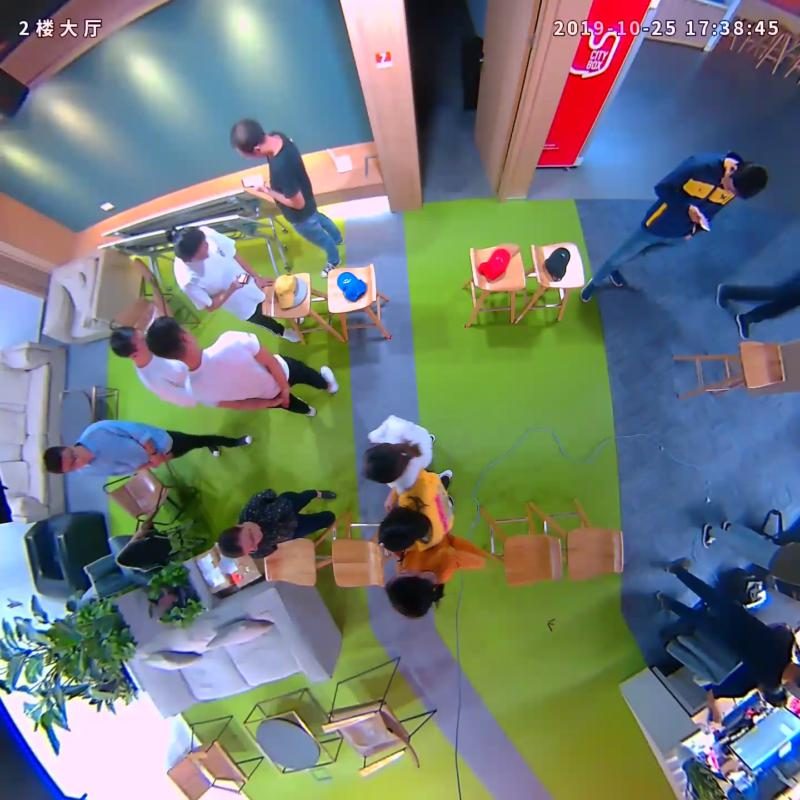head: (145, 314, 198, 360), (385, 572, 435, 619), (377, 506, 422, 551), (719, 161, 769, 200), (362, 442, 405, 484), (229, 119, 268, 161), (217, 523, 263, 558), (171, 225, 209, 263), (109, 325, 148, 360), (44, 445, 87, 472)
